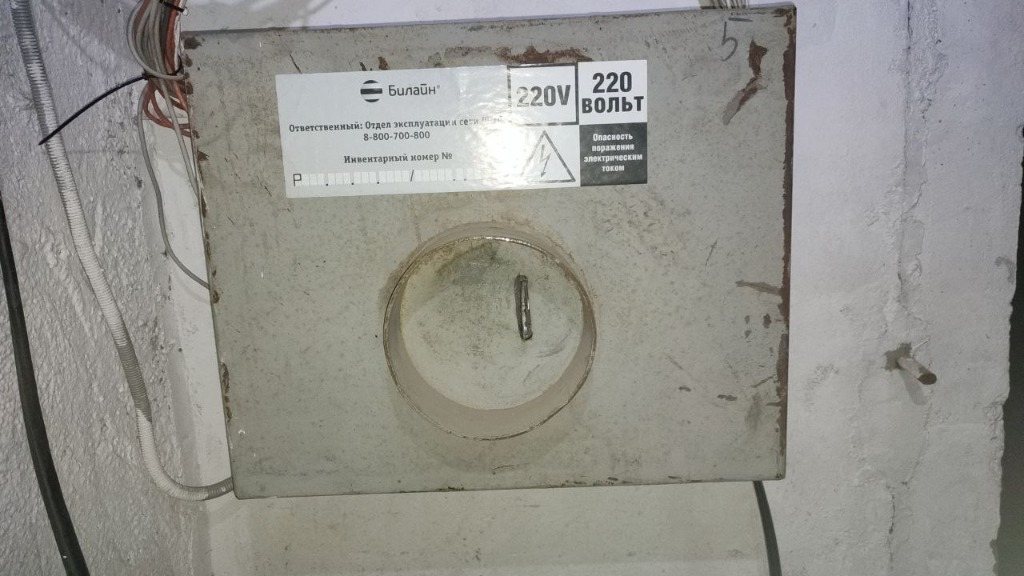shta-3: (177, 1, 794, 500)
